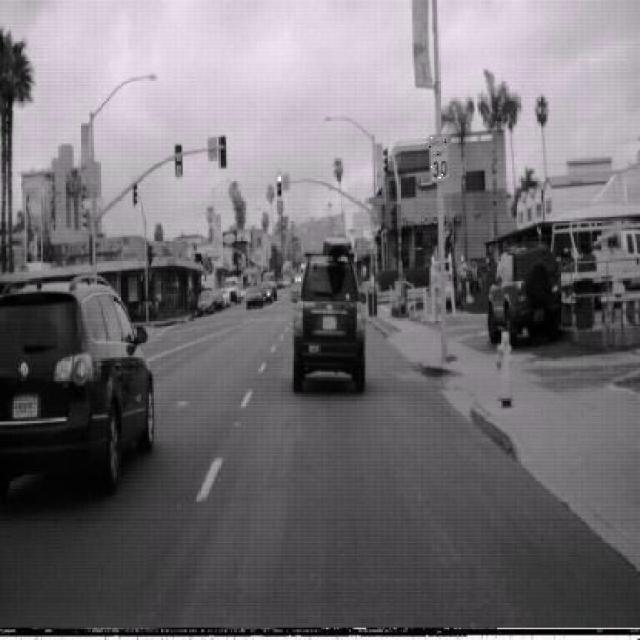speedLimit30: (429, 131, 451, 184)
